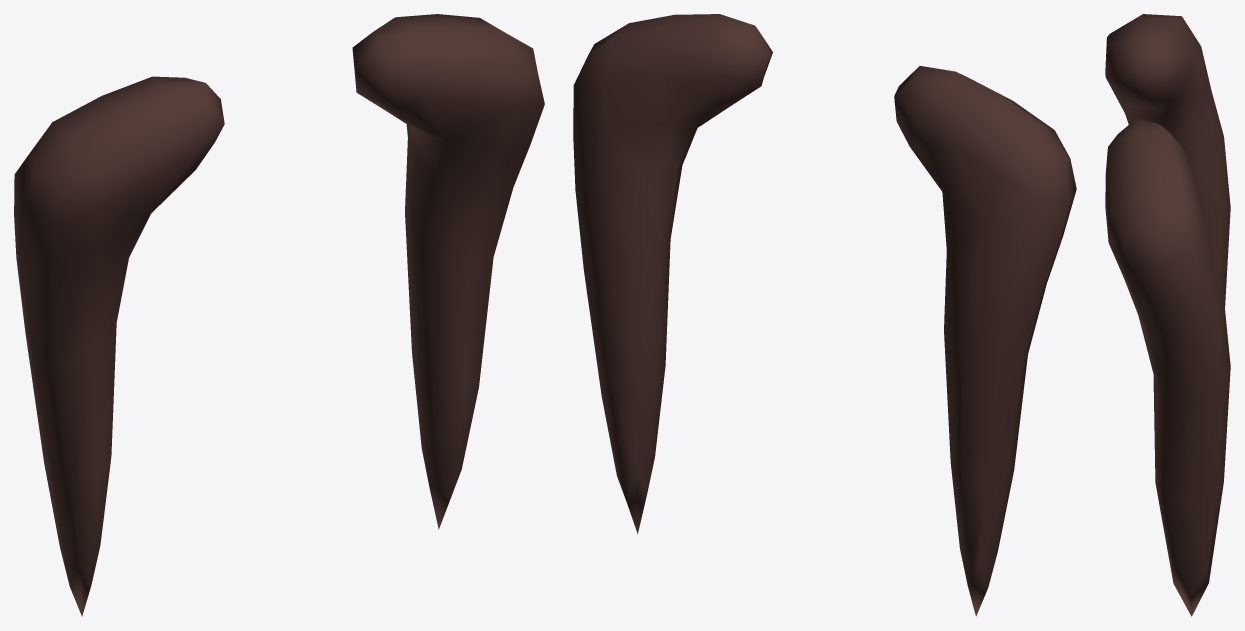
Rendered from Mustache_Brown_005.glb.
3 renders of one model, left to right at view 1: azimuth 30°, elevation 25°; view 2: azimuth 150°, elevation 25°; view 3: azimuth 270°, elevation 25°, orthographic. The views are drawn at different scales.
Visible parts, largest first — view 1: Mustache_Brown_005; view 2: Mustache_Brown_005; view 3: Mustache_Brown_005.
Boxes of the visible parts, x1,y1,x2,y2 form: Mustache_Brown_005: (14, 14, 544, 616); Mustache_Brown_005: (573, 14, 1076, 616); Mustache_Brown_005: (1105, 14, 1230, 616).
Size of the model in its own units: 0.1383 by 0.138 by 0.0339.
Materials: 1 (1 with a texture image).
